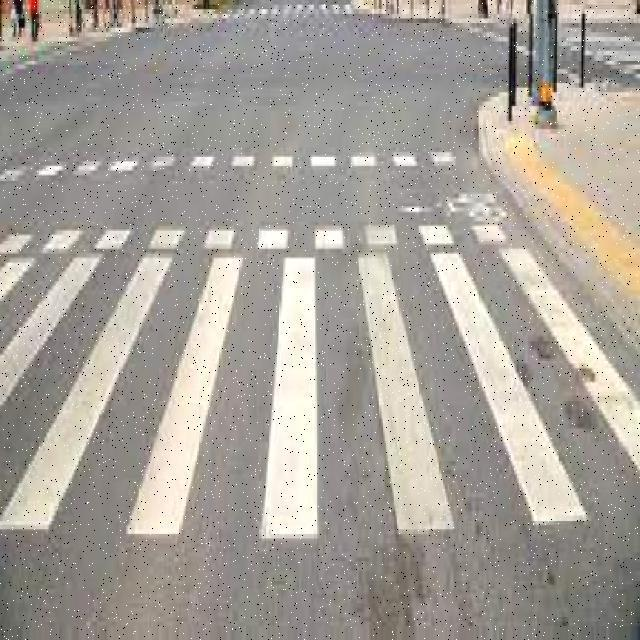Pedestrian crosswalk: (1, 240, 638, 571), (223, 0, 360, 42), (558, 23, 638, 83)
